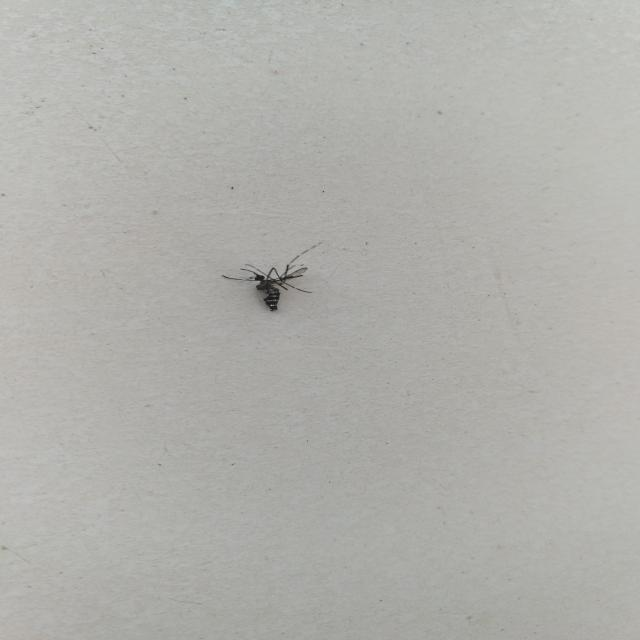albopictus: (215, 240, 330, 313)
